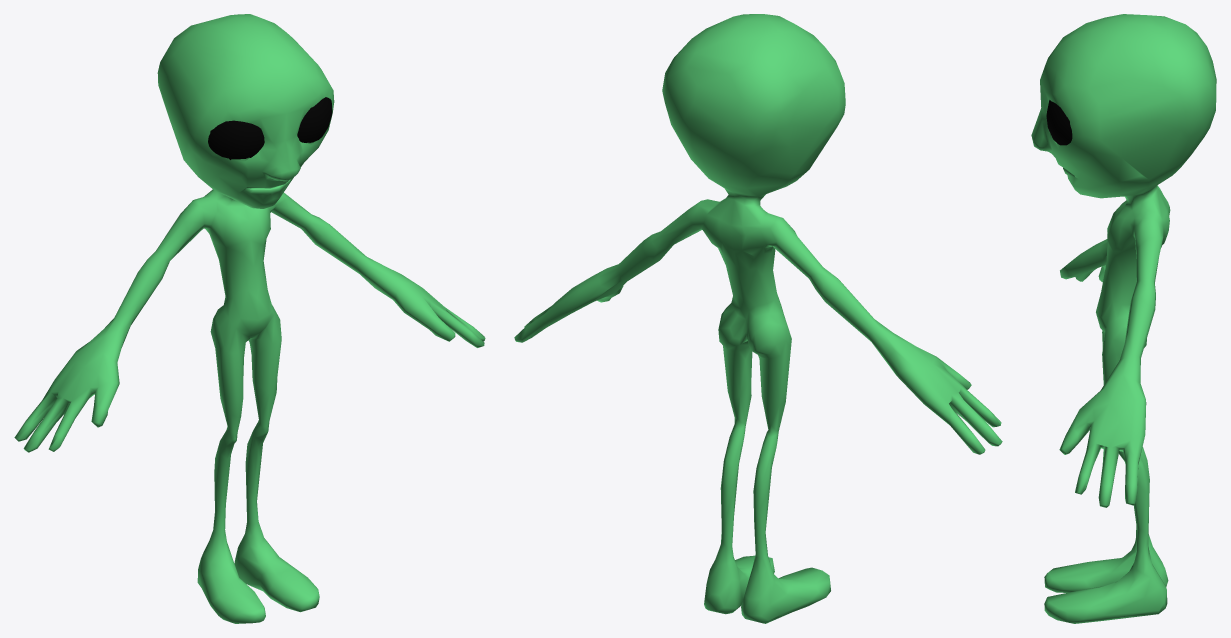
The model's file is green-alien.dae.
3 renders of one model, left to right at view 1: azimuth 30°, elevation 25°; view 2: azimuth 150°, elevation 25°; view 3: azimuth 270°, elevation 25°, orthographic. The views are drawn at different scales.
Visible parts, largest first — view 1: Argise; view 2: Argise; view 3: Argise.
Part boxes in pixels (<box>): Argise: <box>14,14,485,623</box>; Argise: <box>514,14,1002,623</box>; Argise: <box>1031,14,1216,623</box>.
Size of the model in its own units: 1.43 by 0.4841 by 1.67.
